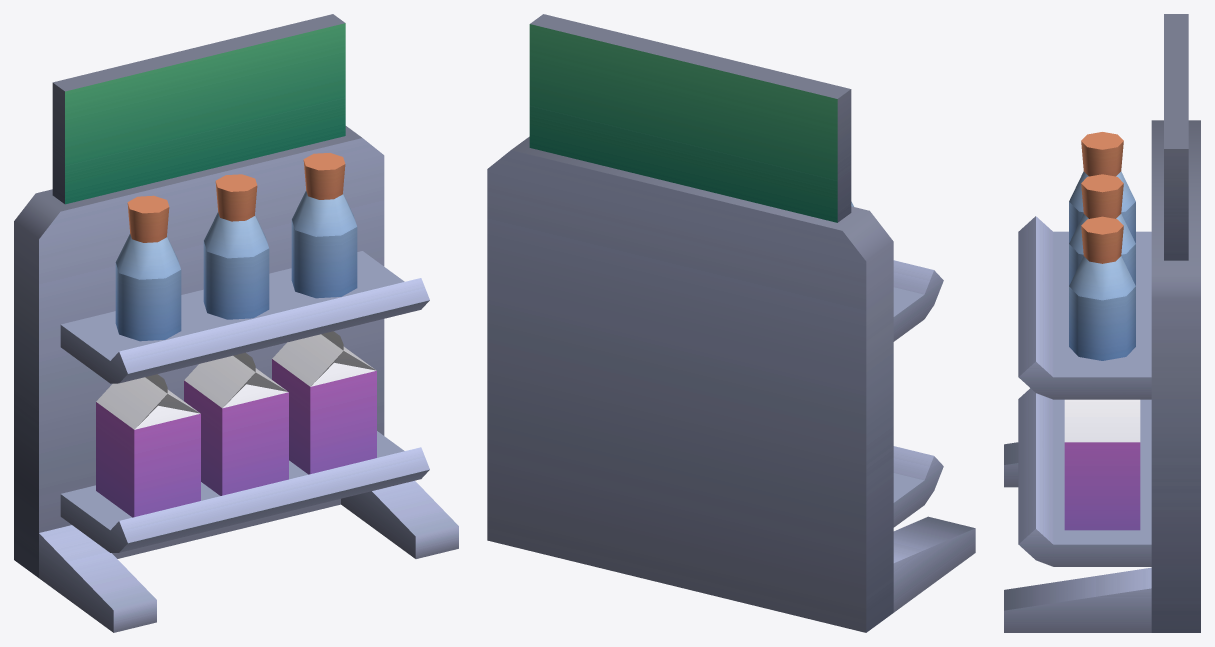
The model's file is kenney-mini-market-shelf-end.glb.
3 views of the same model, side by side, from view 1: azimuth 30°, elevation 25°; view 2: azimuth 150°, elevation 25°; view 3: azimuth 270°, elevation 25° (orthographic). The views are drawn at different scales.
Parts seen in each view (by area): view 1: shelf-end, Group, carton (×3), bottle (×3); view 2: shelf-end, Group; view 3: shelf-end, bottle (×3), carton, Group.
Boxes of the visible parts, x1=… form: shelf-end: x1=14, y1=126, x2=458, y2=632; Group: x1=52, y1=14, x2=345, y2=204; carton (×3): x1=96, y1=331, x2=376, y2=517; bottle (×3): x1=115, y1=153, x2=357, y2=341; shelf-end: x1=487, y1=136, x2=975, y2=632; Group: x1=529, y1=14, x2=851, y2=222; shelf-end: x1=1004, y1=120, x2=1200, y2=632; bottle (×3): x1=1069, y1=132, x2=1135, y2=360; carton: x1=1064, y1=399, x2=1140, y2=530; Group: x1=1164, y1=14, x2=1188, y2=260.
Bounding box in the file's own units: 0.8 × 1.05 × 0.4001.
1 material, 1 textured.
